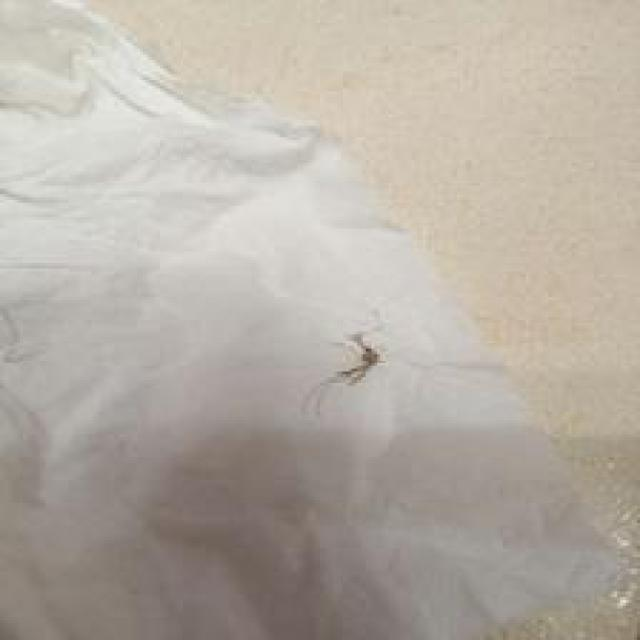Culex: (303, 327, 386, 416)
